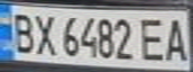2: (112, 15, 139, 61)
4: (78, 14, 100, 58)
6: (57, 12, 81, 57)
8: (97, 15, 118, 60)
A: (160, 14, 193, 63)
B: (6, 9, 39, 54)
E: (136, 15, 172, 62)
X: (30, 10, 60, 56)
